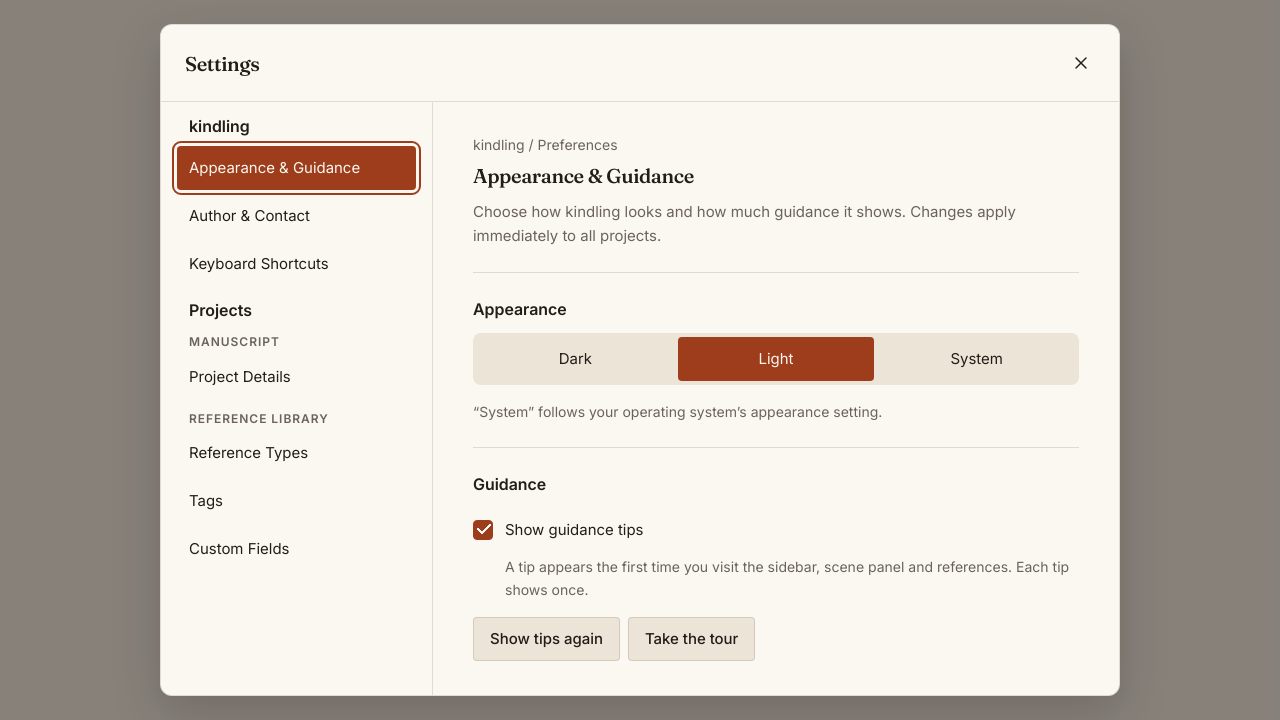
Test: does not expose blank author fields after a load failure and retries before saving
The width and height of the screenshot is (1280, 720).
Click the button "Author & Contact".
click(296, 216)  # box [177,194,416,238]
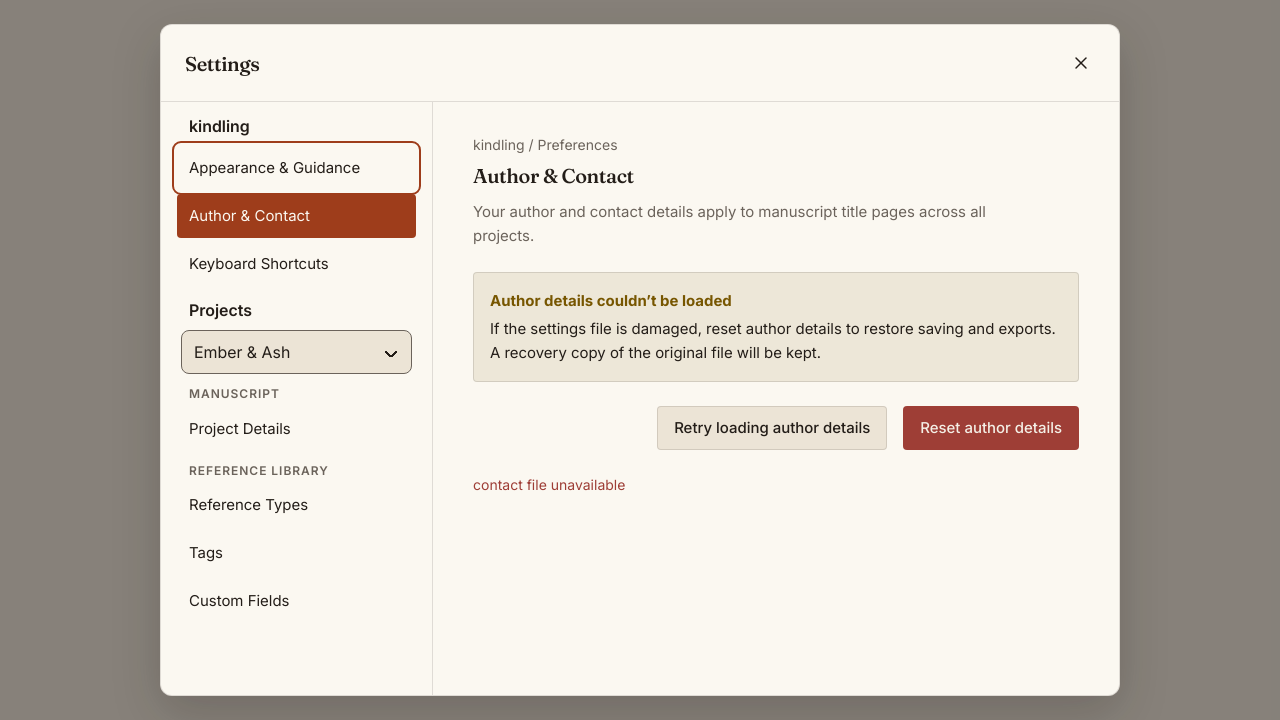
Expected: the button "Save author details" is not shown
Expected: the text "contact file unavailable" is shown, [473,476,625,493]
Click the button "Retry loading author details".
click(772, 428)  # box [657,406,887,450]
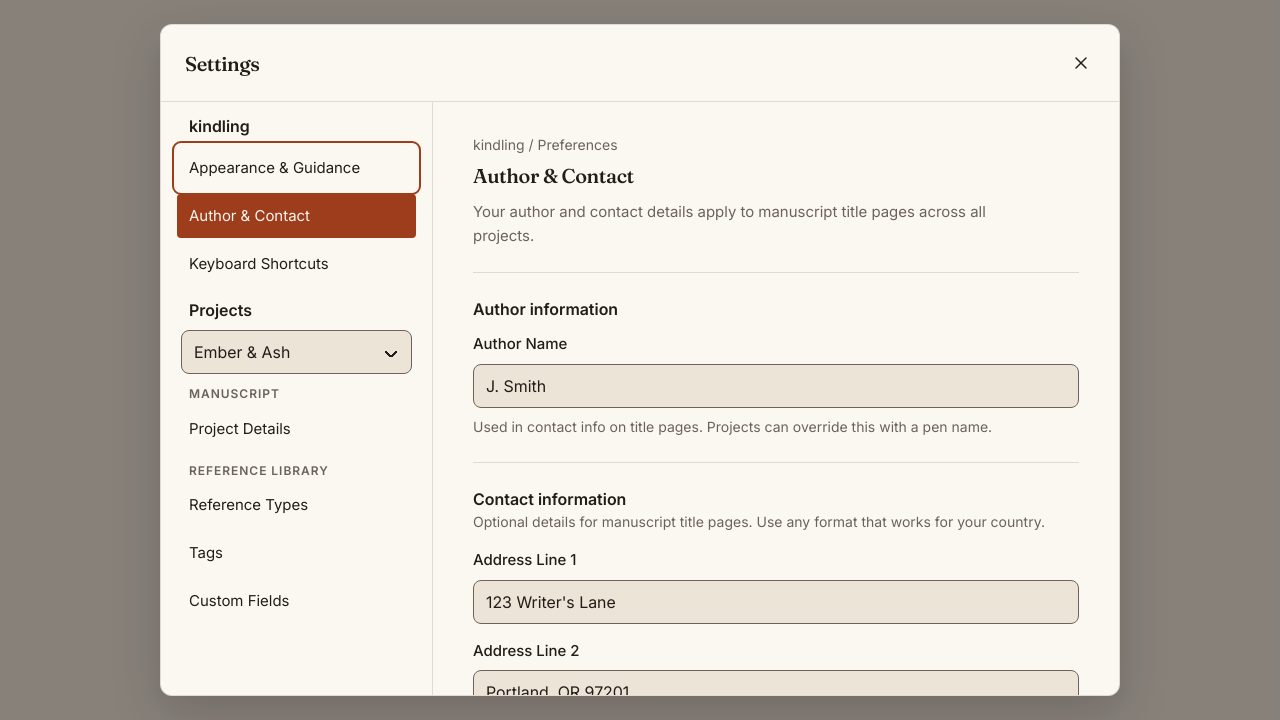
Expected: the field labelled "Author Name" is shown
Replace the text in the field labelled "Author Name" with "New Author" at [776, 386], box [473,364,1079,408]
(page scrolled)
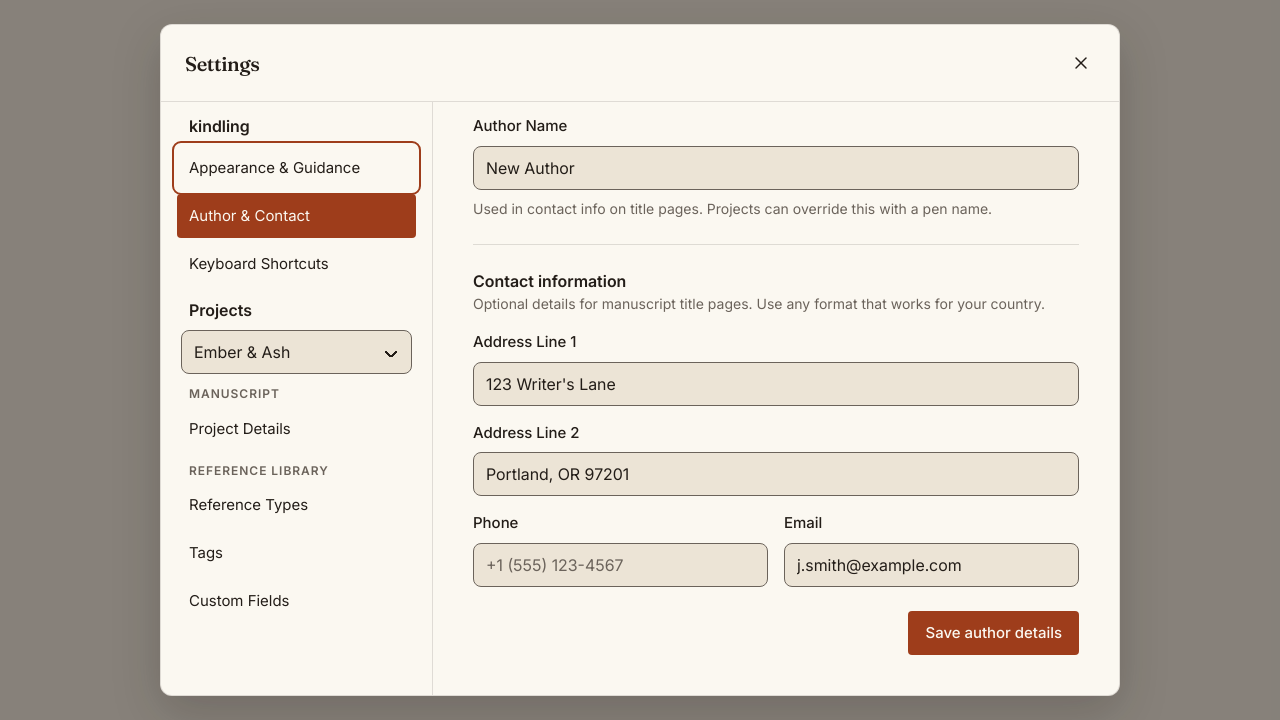
Click the button "Save author details".
click(994, 633)  # box [908,611,1079,655]
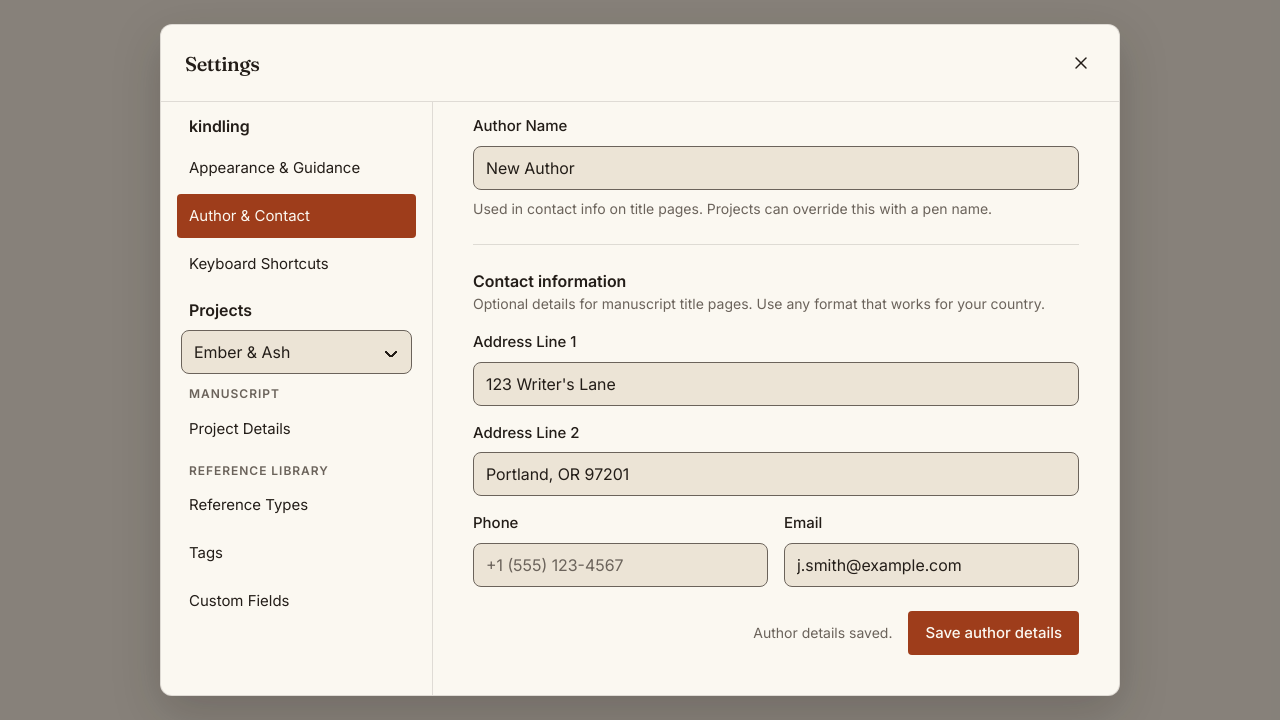
Expected: the text "Author details saved." is shown, [753,622,892,644]
